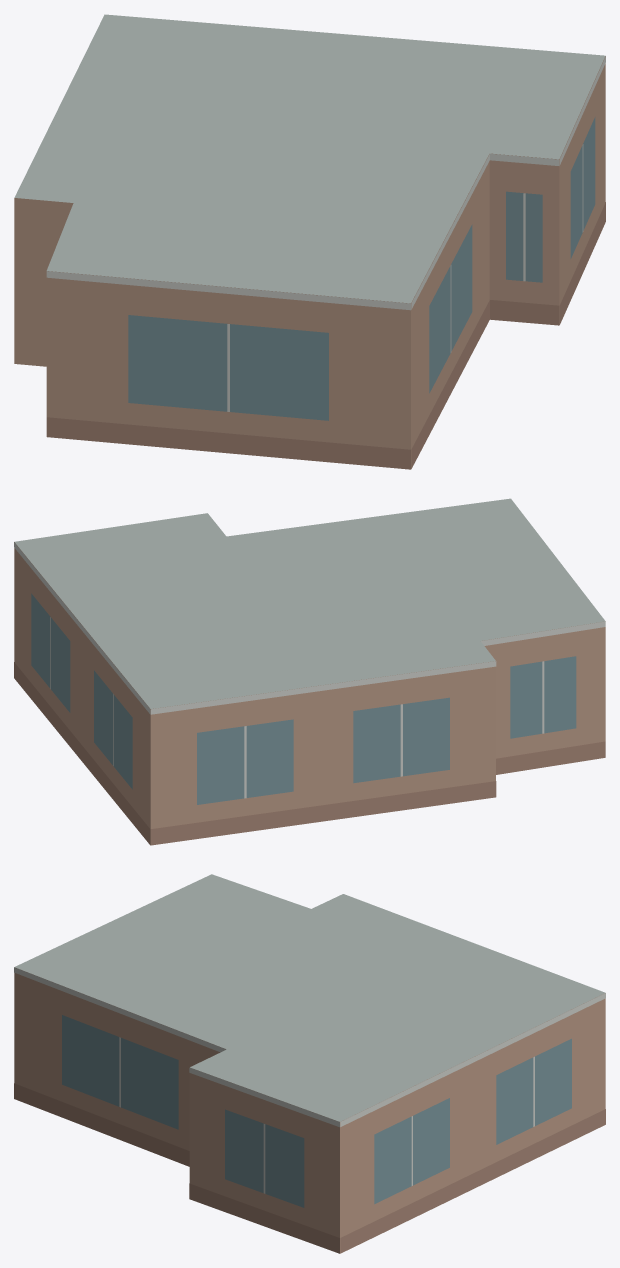
File: survey-upis-32754212.glb
3 views of the same model, one above another, from view 1: azimuth 30°, elevation 25°; view 2: azimuth 150°, elevation 25°; view 3: azimuth 270°, elevation 25° (orthographic). The views are drawn at different scales.
Visible parts, largest first — view 1: survey-upis-32754212.tmp; view 2: survey-upis-32754212.tmp; view 3: survey-upis-32754212.tmp.
Part boxes in pixels (<box>): survey-upis-32754212.tmp: <box>14,14,605,469</box>; survey-upis-32754212.tmp: <box>14,498,605,845</box>; survey-upis-32754212.tmp: <box>14,874,605,1253</box>.
Size of the model in its own units: 12.31 by 3.05 by 12.42.
